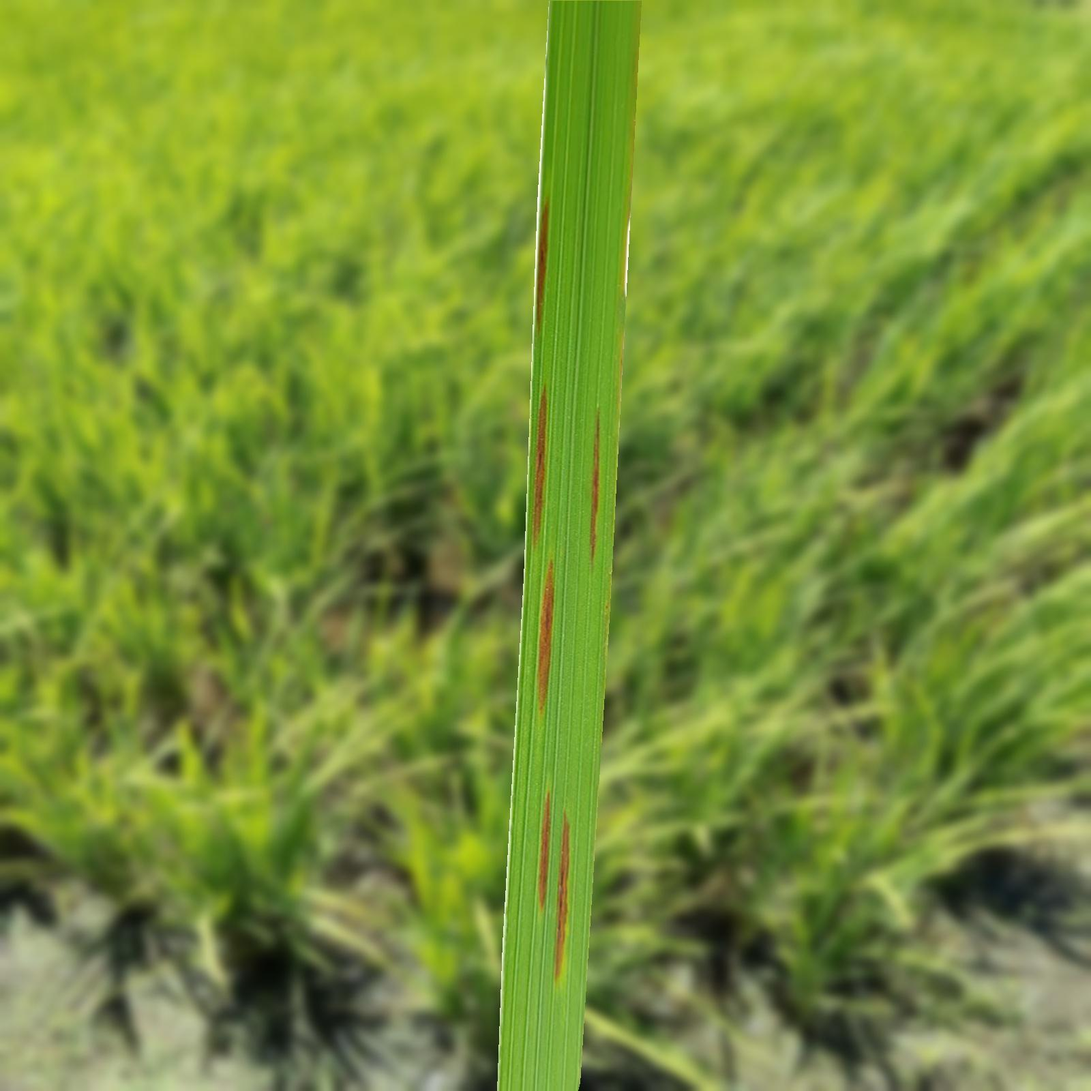LEAF: (497, 1, 641, 1090)
NBS: (538, 559, 554, 729), (555, 811, 570, 978), (532, 389, 547, 543), (536, 199, 548, 331), (590, 407, 599, 566), (539, 792, 550, 912), (533, 436, 544, 541)
